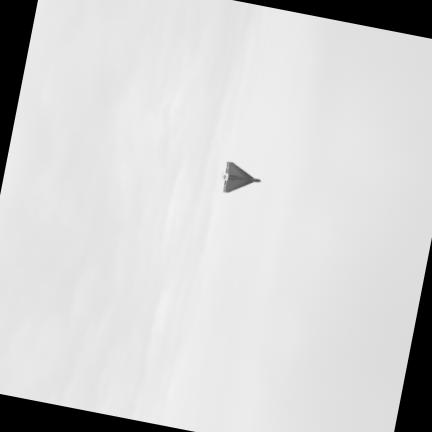Shahed: (223, 162, 260, 191)
